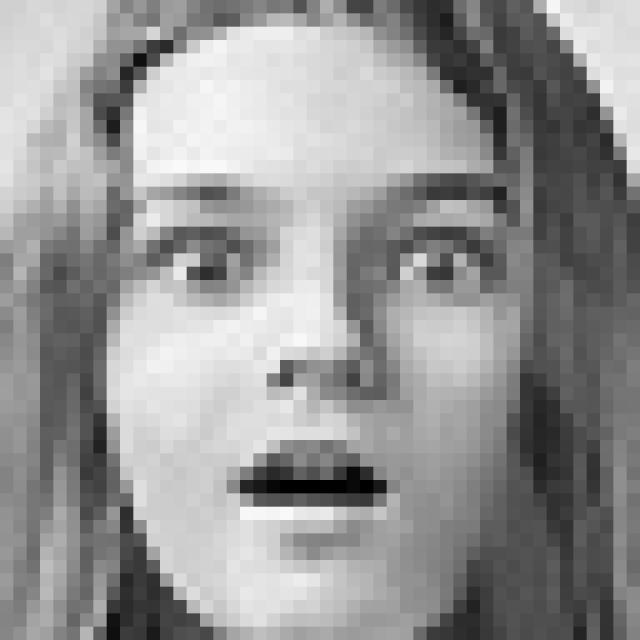surprise: (120, 157, 522, 541)
